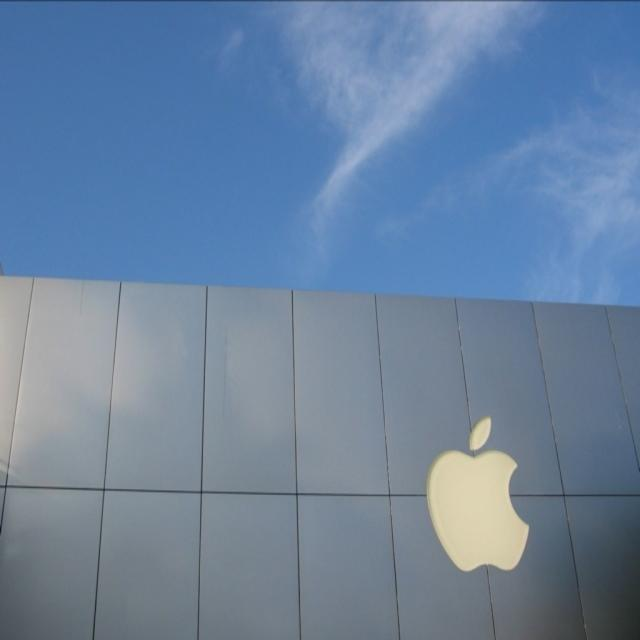Healty Apple: (426, 436, 538, 588)
